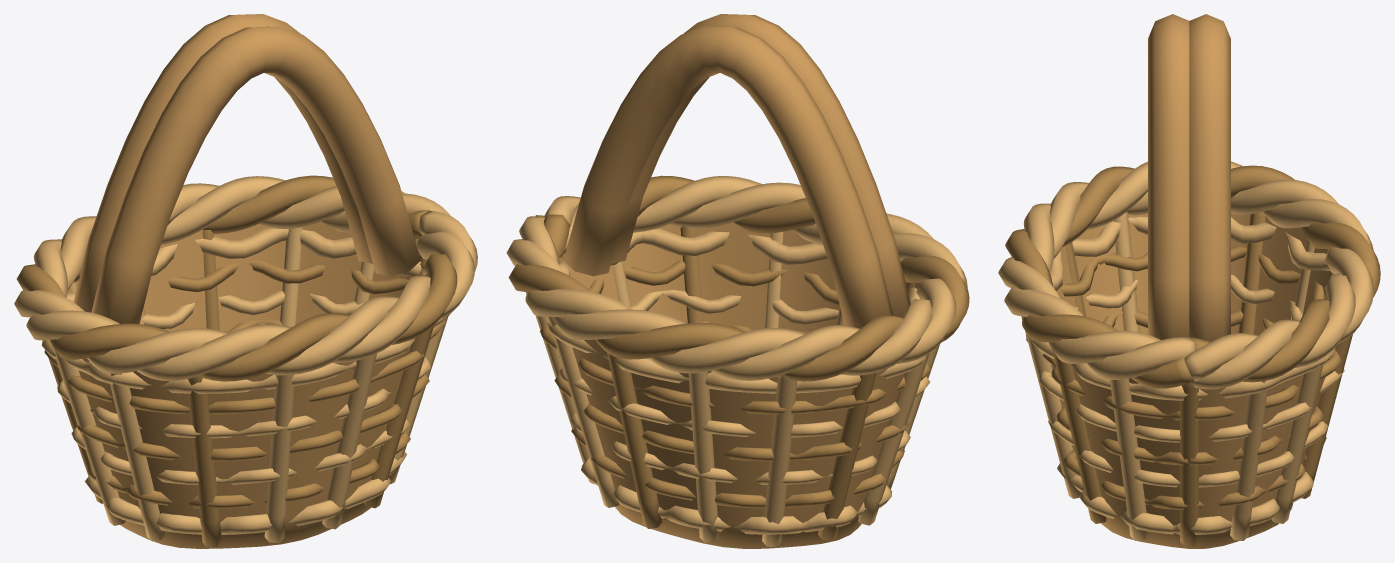
The model's file is basket.glb.
3 views of the same model, side by side, from view 1: azimuth 30°, elevation 25°; view 2: azimuth 150°, elevation 25°; view 3: azimuth 270°, elevation 25° (orthographic).
Parts seen in each view (by area): view 1: Basket | static geometry; view 2: Basket | static geometry; view 3: Basket | static geometry.
Boxes of the visible parts, <box> form: Basket | static geometry: <box>14,14,477,548</box>; Basket | static geometry: <box>506,14,969,548</box>; Basket | static geometry: <box>998,14,1380,548</box>.
Size of the model in its own units: 1.33 by 1.44 by 1.06.
